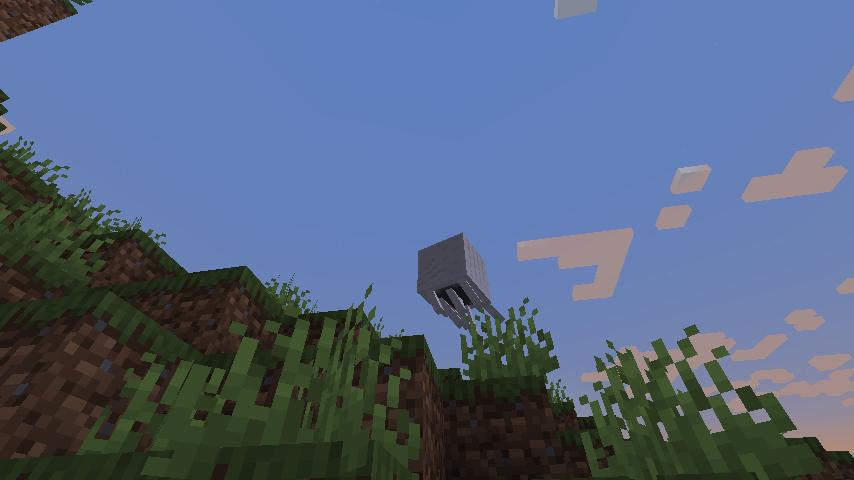ghast: (416, 229, 507, 334)
